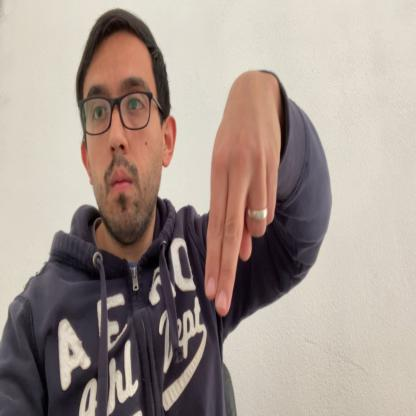N: (204, 80, 278, 315)
